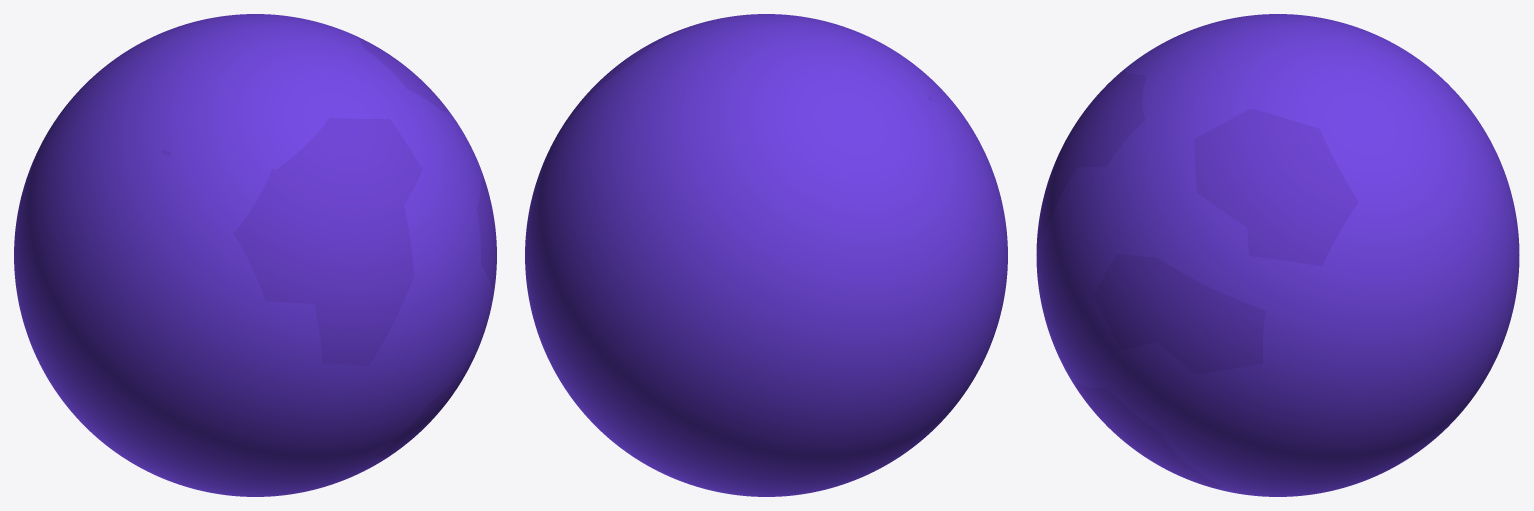
The model's file is planet.fbx.
3 views of the same model, side by side, from view 1: azimuth 30°, elevation 25°; view 2: azimuth 150°, elevation 25°; view 3: azimuth 270°, elevation 25° (orthographic).
Visible parts, largest first — view 1: planet; view 2: planet; view 3: planet.
Boxes of the visible parts, box(x1,y1,x2,y2) form: planet: box(14, 14, 496, 496); planet: box(525, 14, 1007, 496); planet: box(1036, 14, 1519, 496).
Size of the model in its own units: 9.08 by 9.08 by 9.08.
